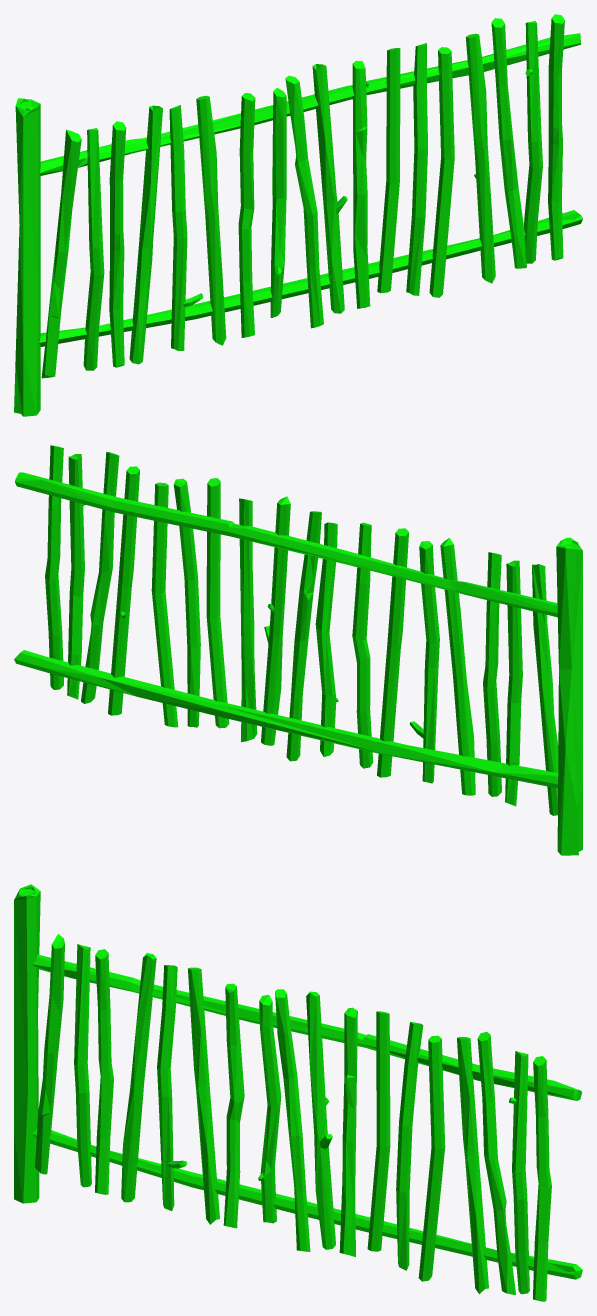
The model's file is SM_Fence_Stick_3m_B.fbx.
3 renders of one model, top to bottom at view 1: azimuth 30°, elevation 25°; view 2: azimuth 150°, elevation 25°; view 3: azimuth 330°, elevation 25°, orthographic.
Parts seen in each view (by area): view 1: fence-stick-3m-b; view 2: fence-stick-3m-b; view 3: fence-stick-3m-b.
Boxes of the visible parts, x1,y1,x2,y2 form: fence-stick-3m-b: [14, 14, 582, 416]; fence-stick-3m-b: [14, 445, 582, 855]; fence-stick-3m-b: [14, 884, 582, 1301].
Bounding box in the file's own units: 3.09 × 1.61 × 0.1784.
